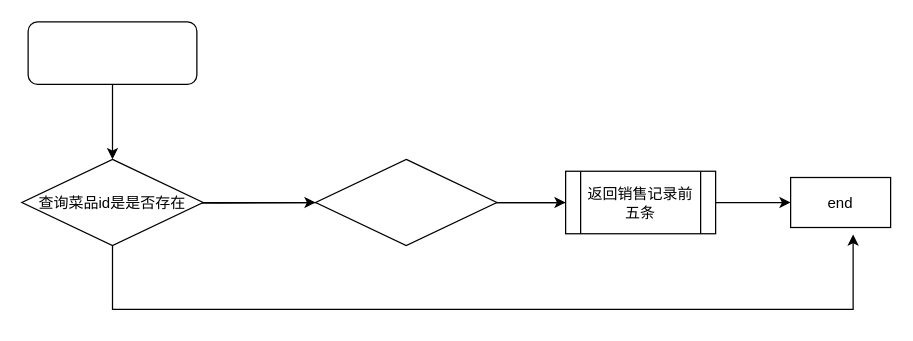
Image size: 913x341. Some labels were removed from this diagram. The centre of each missing label's shape, as x and y in pixels:
"查询菜品销售记录" goes at [112,52].
"查询该菜品是否有销售记录" goes at [405,202].
